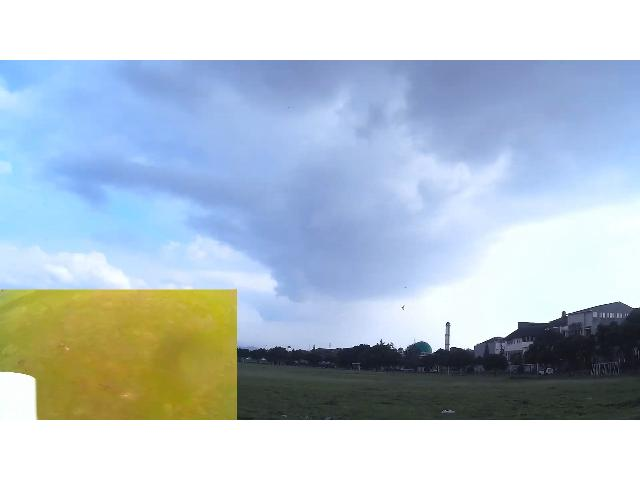Anti-Drone: (391, 296, 417, 318)
